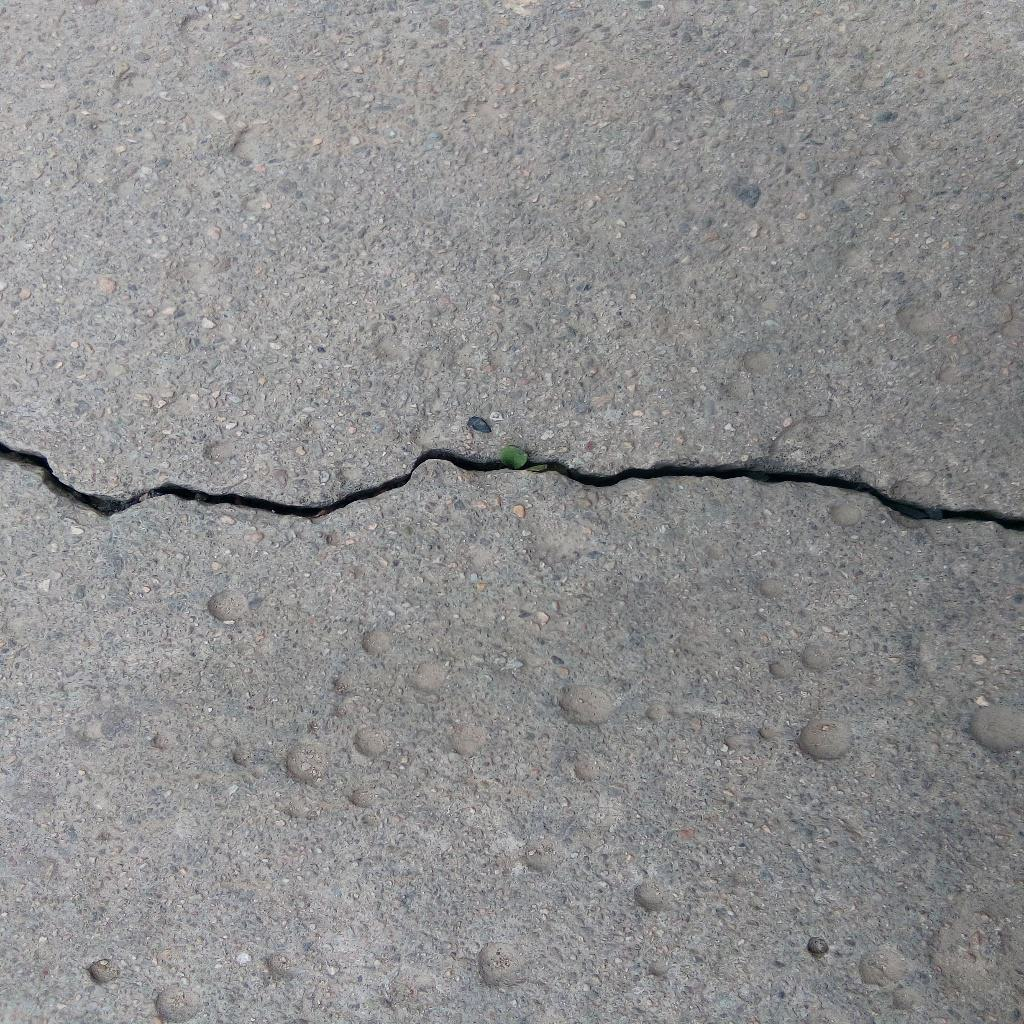Crack: (1, 442, 1024, 531)
